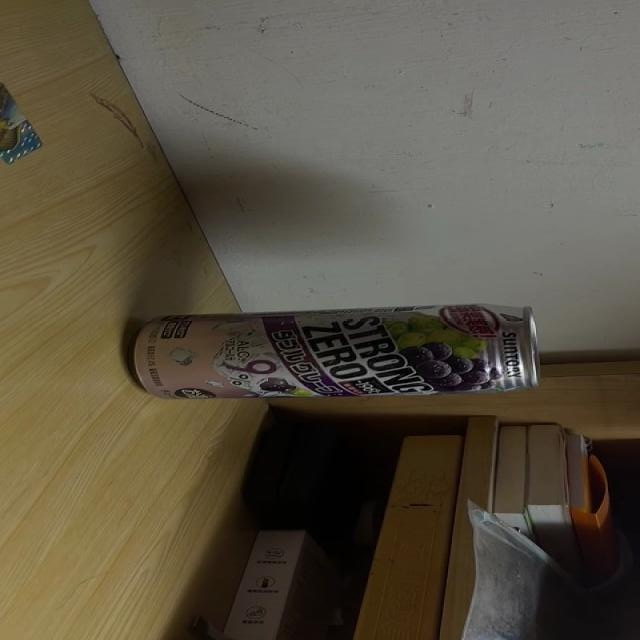Liquor: (128, 305, 540, 399)
